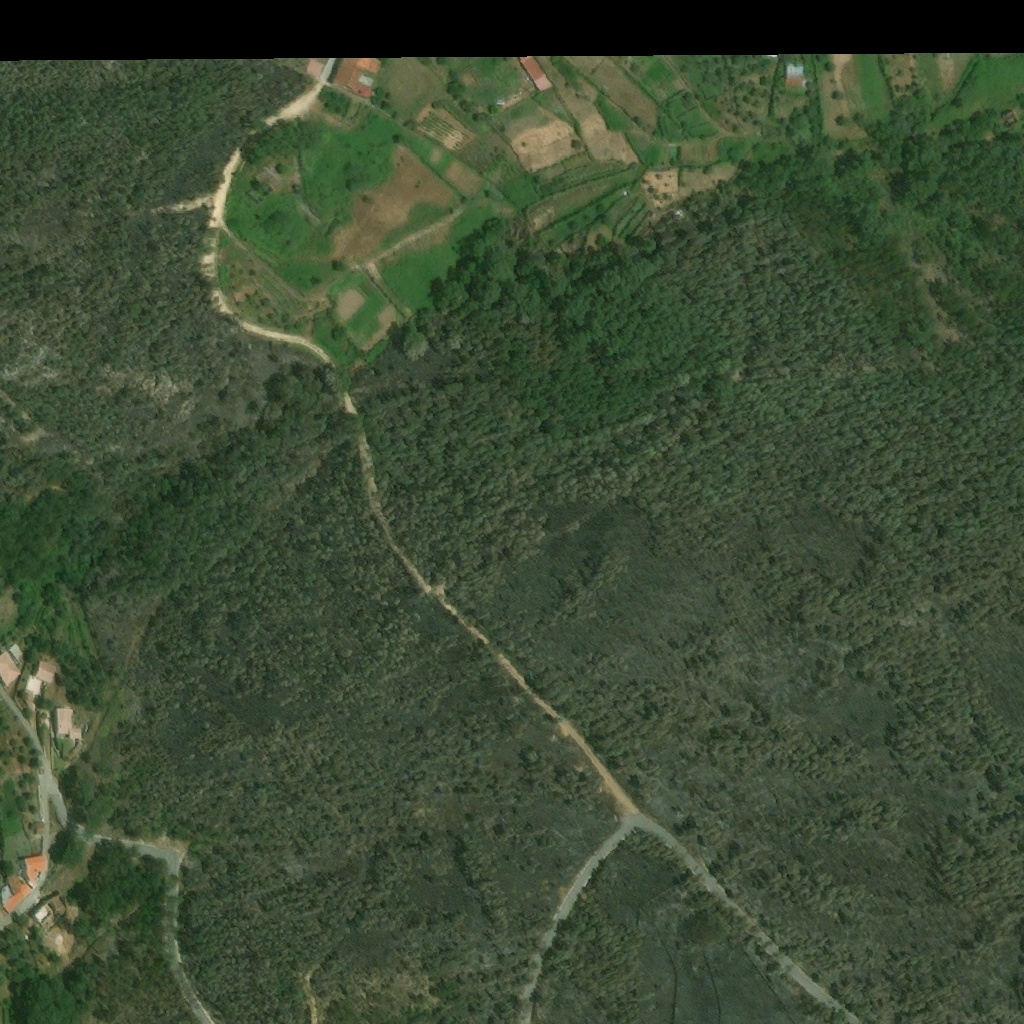0 no-damage: (328, 51, 384, 105), (0, 877, 34, 916), (28, 894, 63, 929), (0, 642, 26, 687), (54, 708, 84, 740), (784, 65, 814, 93), (20, 857, 48, 883), (34, 661, 58, 685), (306, 57, 327, 78), (25, 676, 44, 696), (34, 822, 47, 837), (675, 210, 687, 221)
3 destroyed: (594, 786, 605, 795)
4 un-classified: (1, 708, 14, 723), (763, 48, 784, 55)
